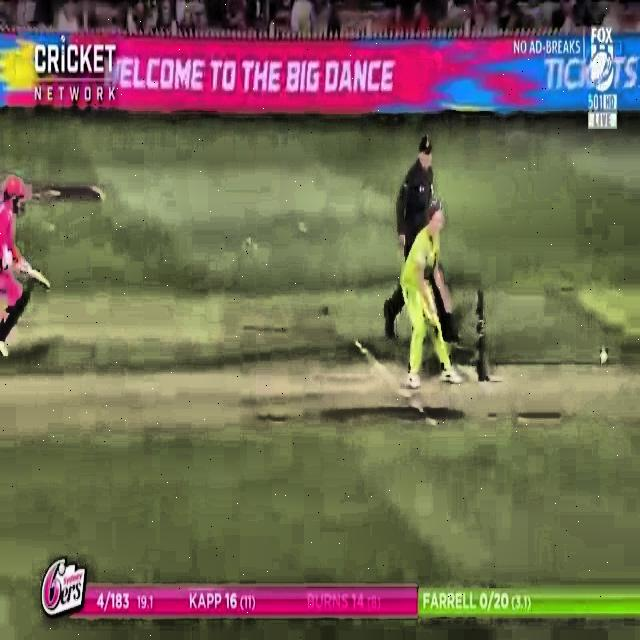Ball: (593, 345, 623, 374)
Bat: (6, 252, 53, 293)
Pitch_Line: (330, 339, 454, 448)
Undis_Wicket: (468, 283, 490, 385)
